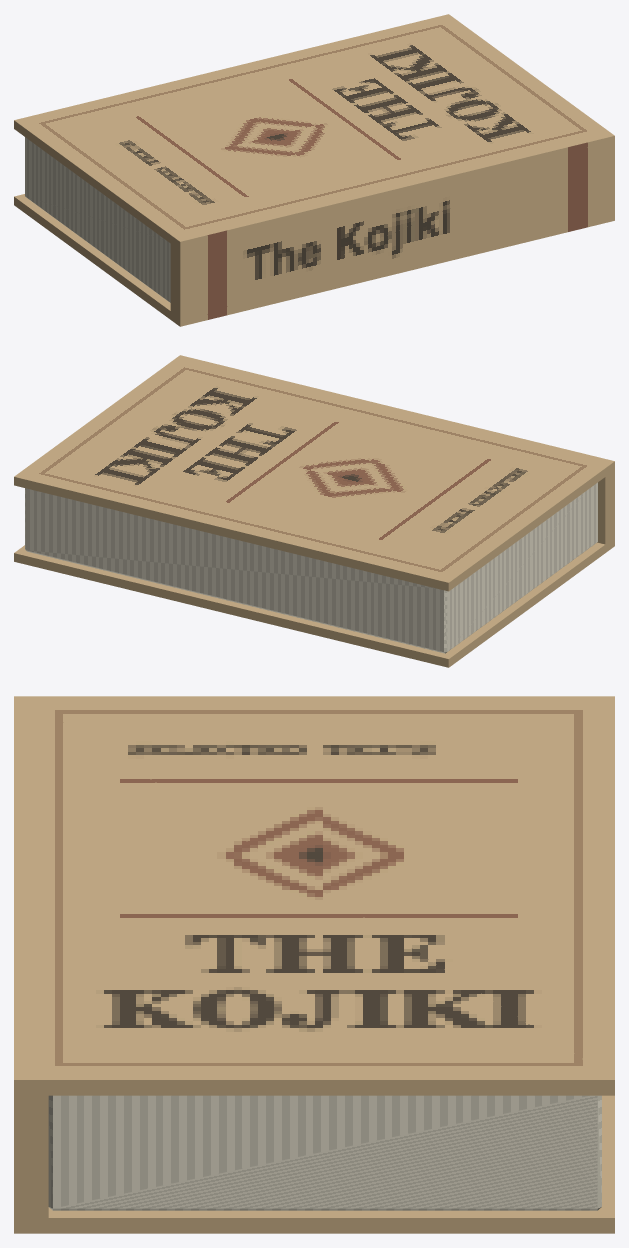
File: holybook_kojiki.glb
The picture shows the model from 3 angles, top to bottom: view 1: azimuth 30°, elevation 25°; view 2: azimuth 150°, elevation 25°; view 3: azimuth 270°, elevation 25°; orthographic projection. The views are drawn at different scales.
Visible parts, largest first — view 1: block_front, block_spine, block_pages, block_back; view 2: block_front, block_pages, block_back, block_spine; view 3: block_front, block_pages, block_spine, block_back.
Part boxes in pixels (x1,y1,x2,y2): block_front: (14, 14, 604, 247); block_spine: (170, 129, 614, 326); block_pages: (25, 137, 170, 302); block_back: (14, 194, 177, 324); block_front: (14, 357, 612, 591); block_pages: (25, 482, 597, 653); block_back: (14, 539, 612, 667); block_spine: (172, 355, 614, 547); block_front: (22, 696, 614, 1095); block_pages: (48, 1095, 601, 1210); block_spine: (14, 696, 48, 1233); block_back: (22, 1095, 614, 1233).
Size of the model in its own units: 0.247 by 0.0461 by 0.1635.
1 material, 1 textured.
